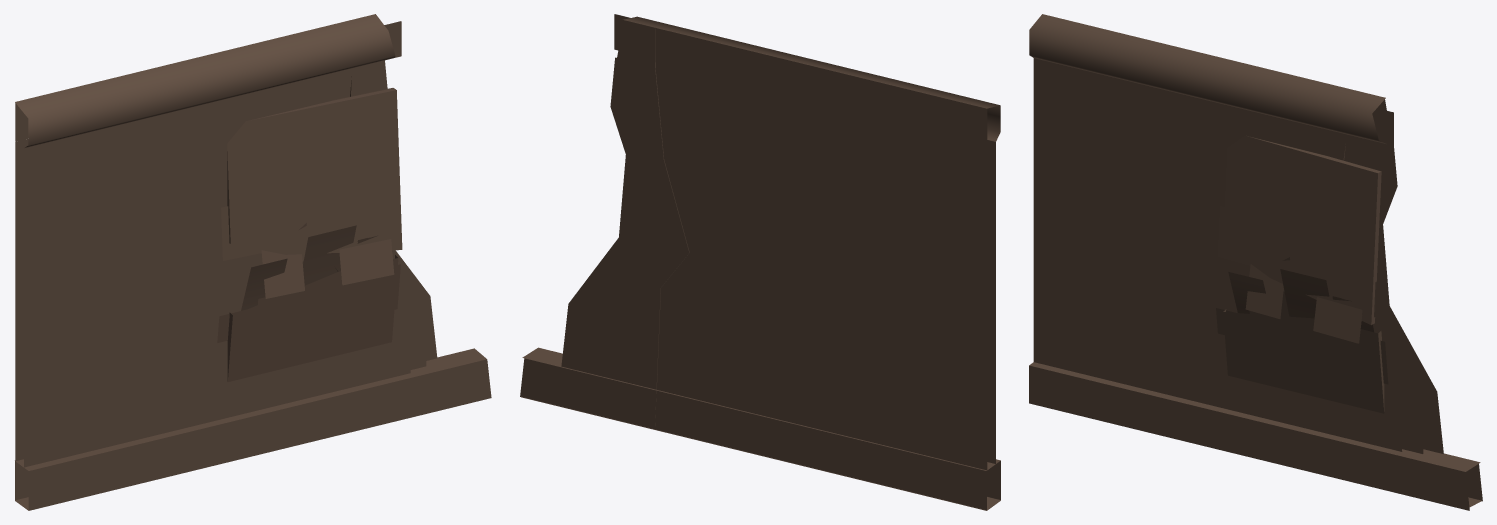
The model's file is DBK_Bottom_Molding_Side_B.fbx.
3 views of the same model, side by side, from view 1: azimuth 30°, elevation 25°; view 2: azimuth 150°, elevation 25°; view 3: azimuth 330°, elevation 25° (orthographic). The views are drawn at different scales.
Visible parts, largest first — view 1: DBK_Bottom_Molding_Side_B; view 2: DBK_Bottom_Molding_Side_B; view 3: DBK_Bottom_Molding_Side_B.
Part boxes in pixels (left/top/right/bottom): DBK_Bottom_Molding_Side_B: left=15, top=14, right=491, bottom=510; DBK_Bottom_Molding_Side_B: left=520, top=14, right=1000, bottom=510; DBK_Bottom_Molding_Side_B: left=1029, top=14, right=1482, bottom=510.
Bounding box in the file's own units: 122 × 100 × 10.93.
